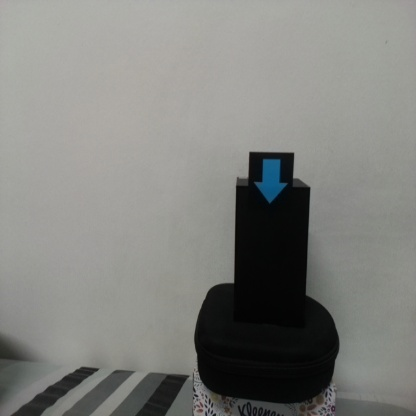id_2: (249, 153, 293, 210)
